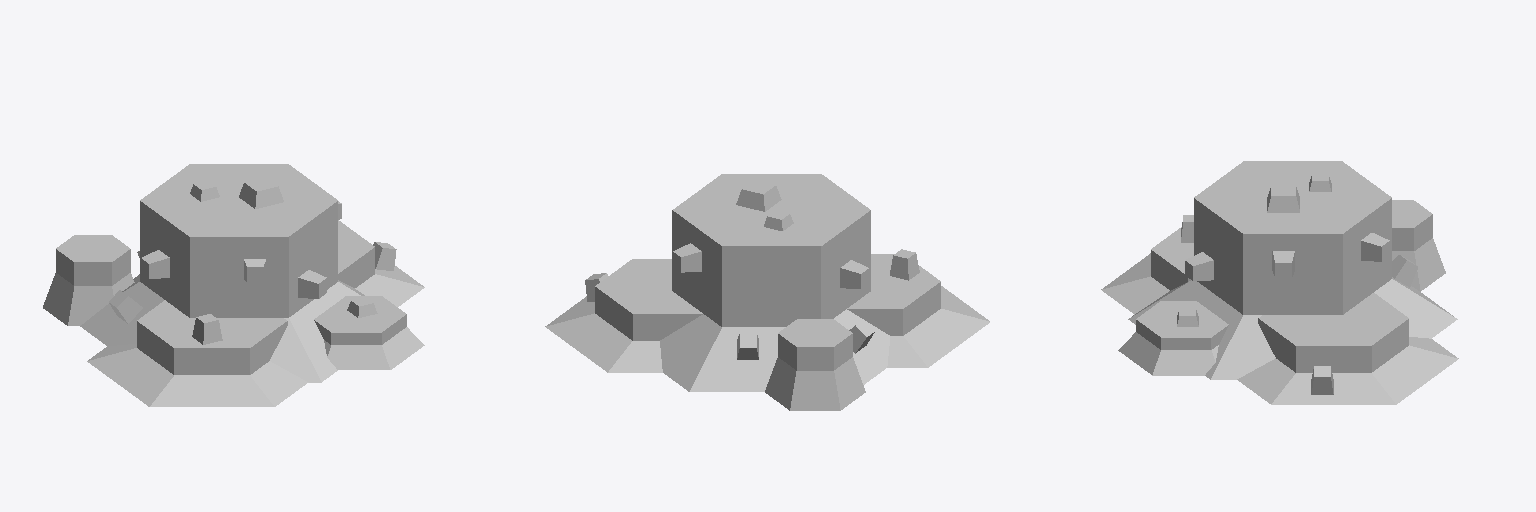
The model's file is rock_crystals.obj.
3 renders of one model, left to right at view 1: azimuth 30°, elevation 25°; view 2: azimuth 150°, elevation 25°; view 3: azimuth 270°, elevation 25°, orthographic.
Parts seen in each view (by area): view 1: rock_crystals; view 2: rock_crystals; view 3: rock_crystals.
Boxes of the visible parts, <box> form: rock_crystals: <box>43,164,424,406</box>; rock_crystals: <box>545,174,989,410</box>; rock_crystals: <box>1101,161,1458,404</box>.
Bounding box in the file's own units: 0.8509 × 0.3375 × 0.8015.